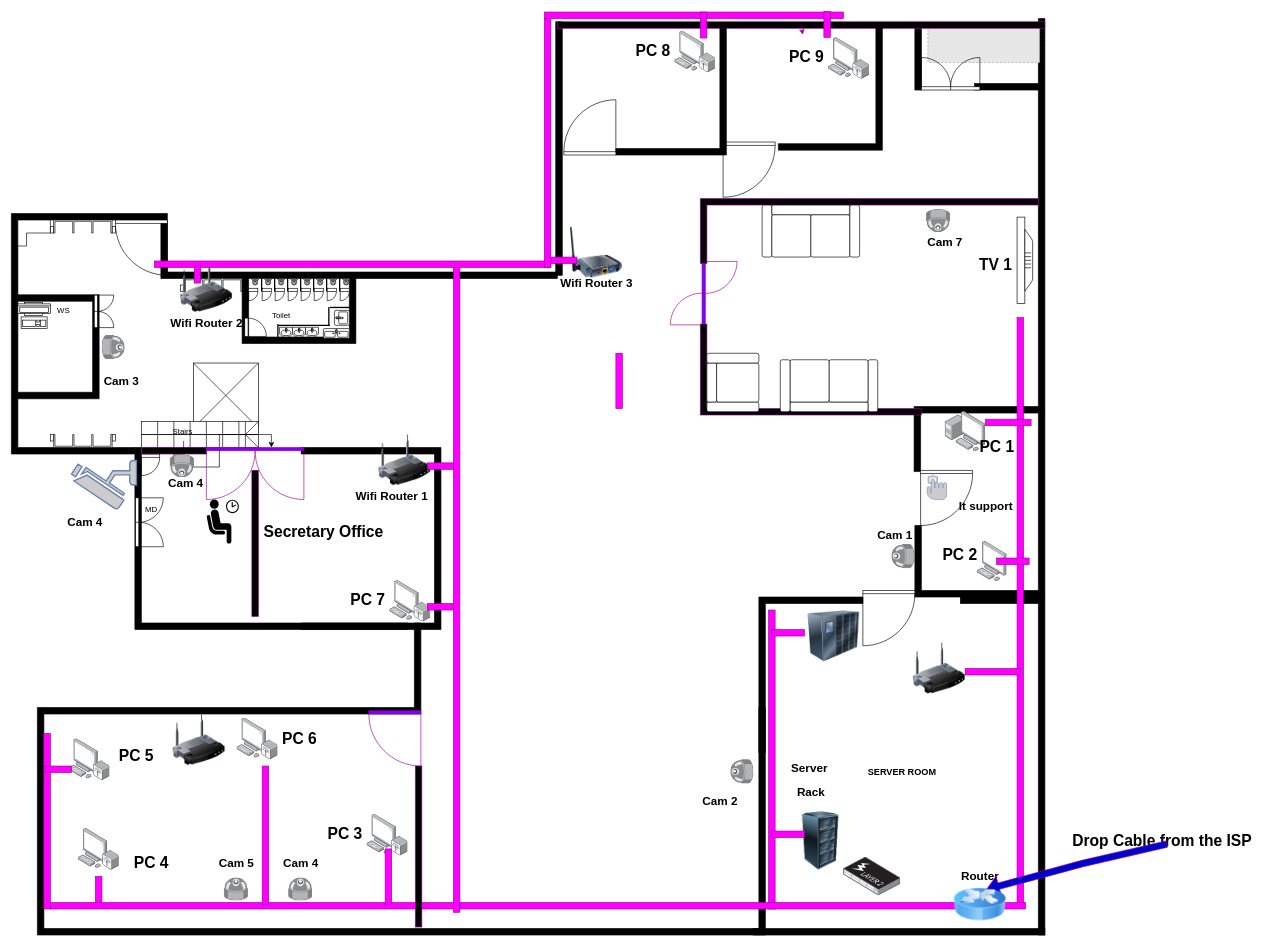
Image size: 1271x946. Some labels were removed from this diagram. Grey dashed boxes stand in for pictures. The box of each missing label's shape, as (x1, y1, x2, y2) in pixels:
Elevator: (193, 362, 258, 428)
UPS: (807, 610, 859, 662)
